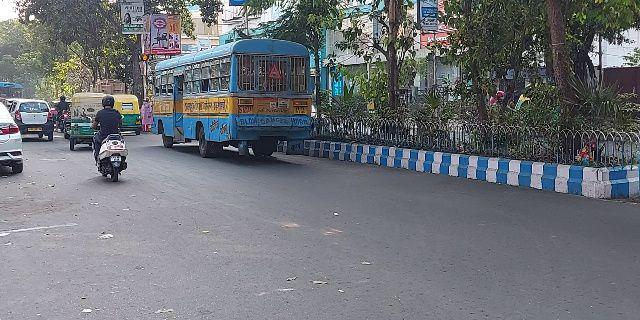Autorickshaw: (62, 93, 98, 153), (108, 93, 147, 138)
Bus: (147, 38, 321, 158)
Car: (1, 101, 29, 177), (12, 94, 52, 144)
Motorbike: (83, 96, 137, 181)
